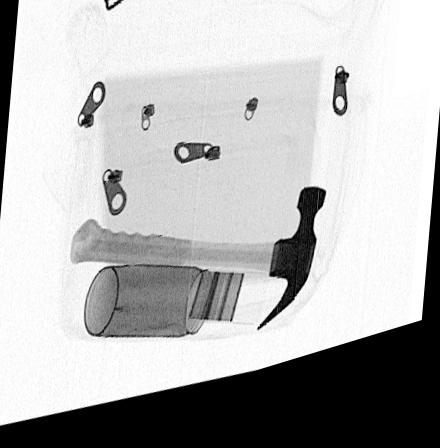Hammer: (68, 205, 326, 346)
